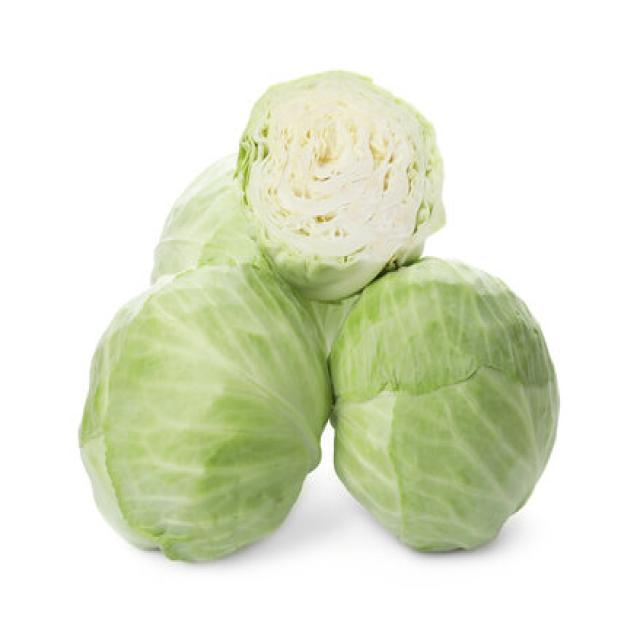Cabbage: (78, 259, 332, 562), (326, 254, 560, 553), (233, 66, 446, 300), (149, 150, 348, 358)
